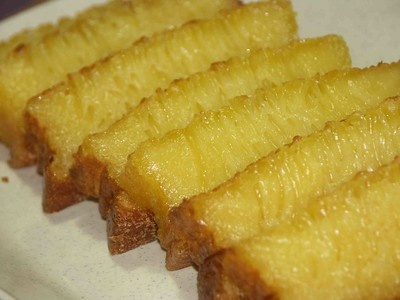bika_ambon: (130, 46, 398, 297)
